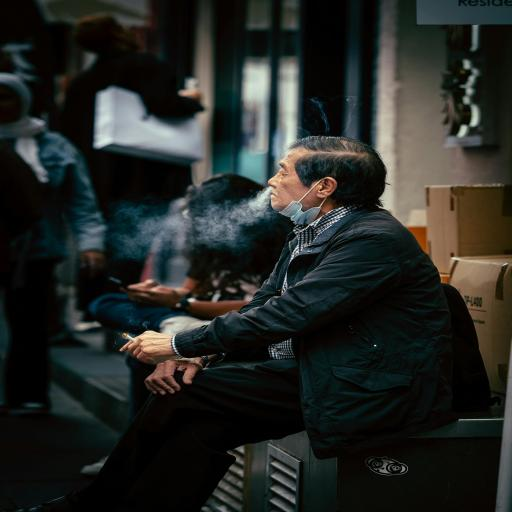asap rokok: (246, 142, 327, 230)
pegang rokok: (94, 304, 175, 380)
